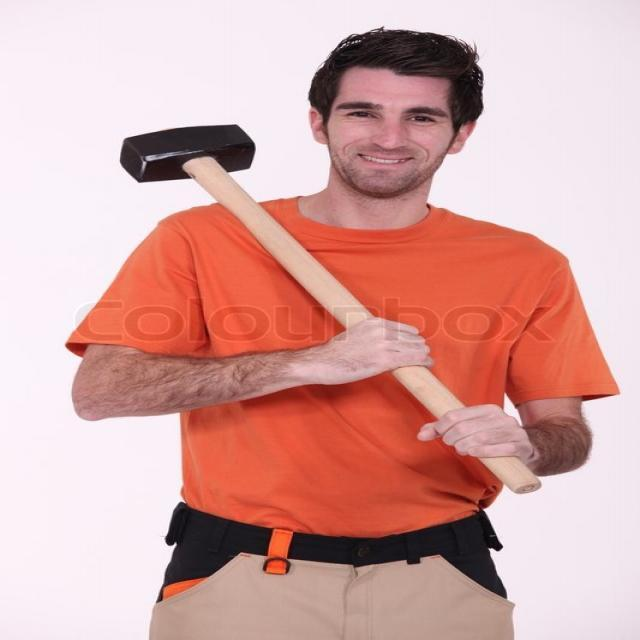hammer: (110, 120, 547, 497)
